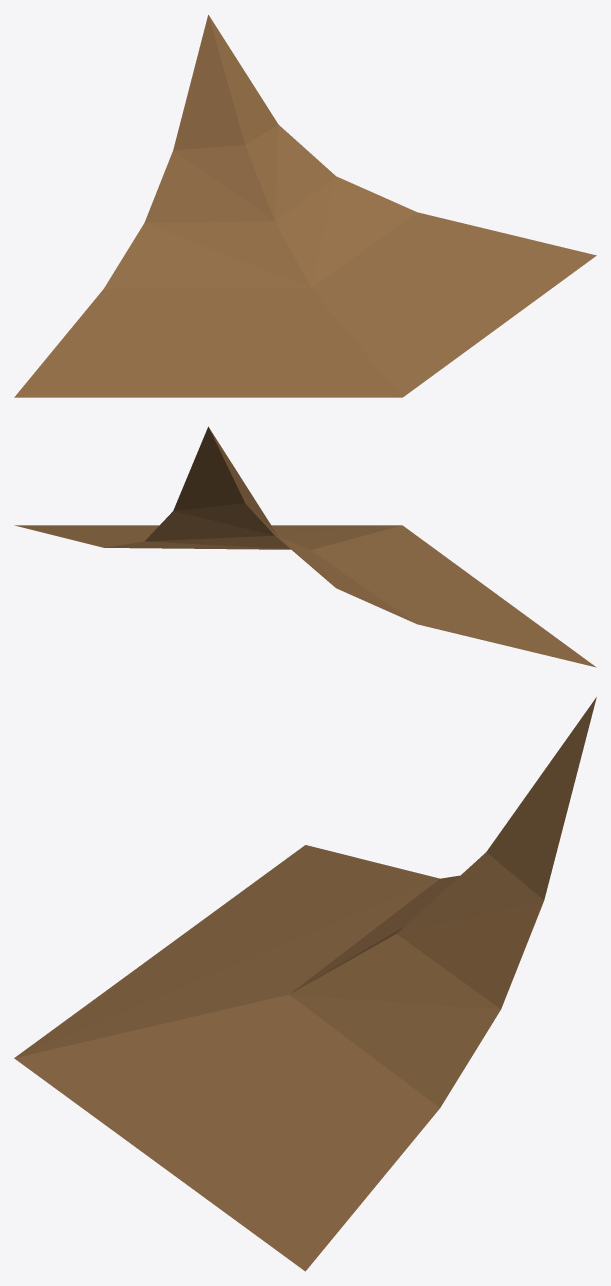
Rendered from RPG_Tiles_Hex_Dirt_Corner_Ramp_01.FBX.
3 renders of one model, top to bottom at view 1: azimuth 30°, elevation 25°; view 2: azimuth 150°, elevation 25°; view 3: azimuth 270°, elevation 25°, orthographic. The views are drawn at different scales.
Visible parts, largest first — view 1: RPG_Tiles_Hex_Dirt_Corner_Ramp_01; view 2: RPG_Tiles_Hex_Dirt_Corner_Ramp_01; view 3: RPG_Tiles_Hex_Dirt_Corner_Ramp_01.
Boxes of the visible parts, x1,y1,x2,y2 form: RPG_Tiles_Hex_Dirt_Corner_Ramp_01: (14, 15, 596, 397); RPG_Tiles_Hex_Dirt_Corner_Ramp_01: (14, 426, 596, 667); RPG_Tiles_Hex_Dirt_Corner_Ramp_01: (14, 697, 596, 1271).
Size of the model in its own units: 3000 by 1186 by 1732.
